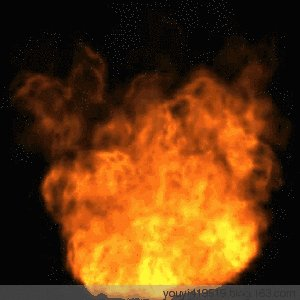fire: (32, 59, 262, 279)
